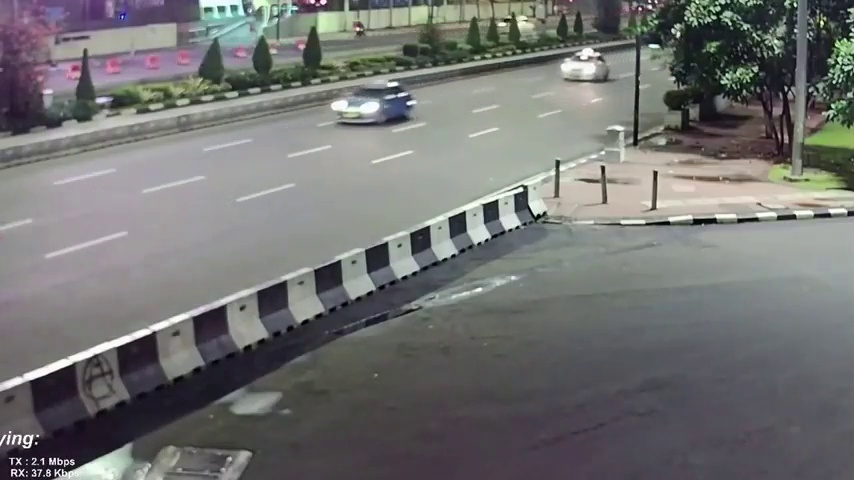car: (334, 82, 412, 126), (560, 48, 607, 84)
